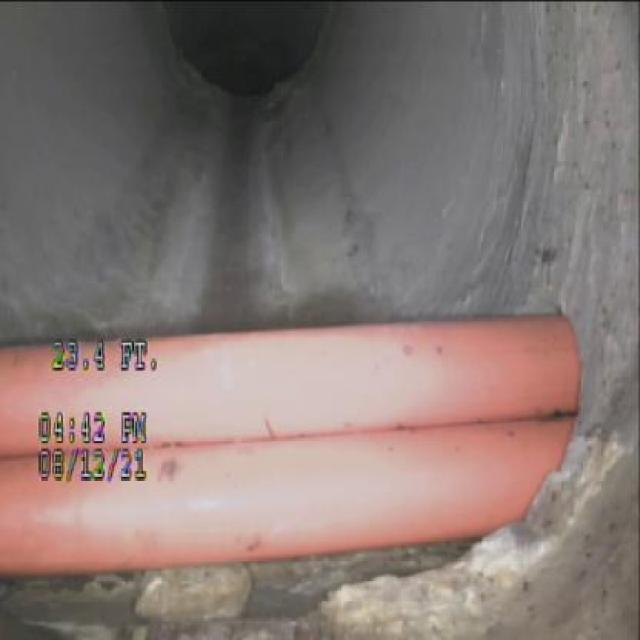Utility intrusion: (3, 300, 582, 585)
